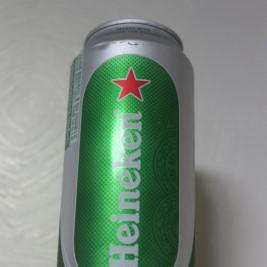beer: (57, 18, 204, 267)
